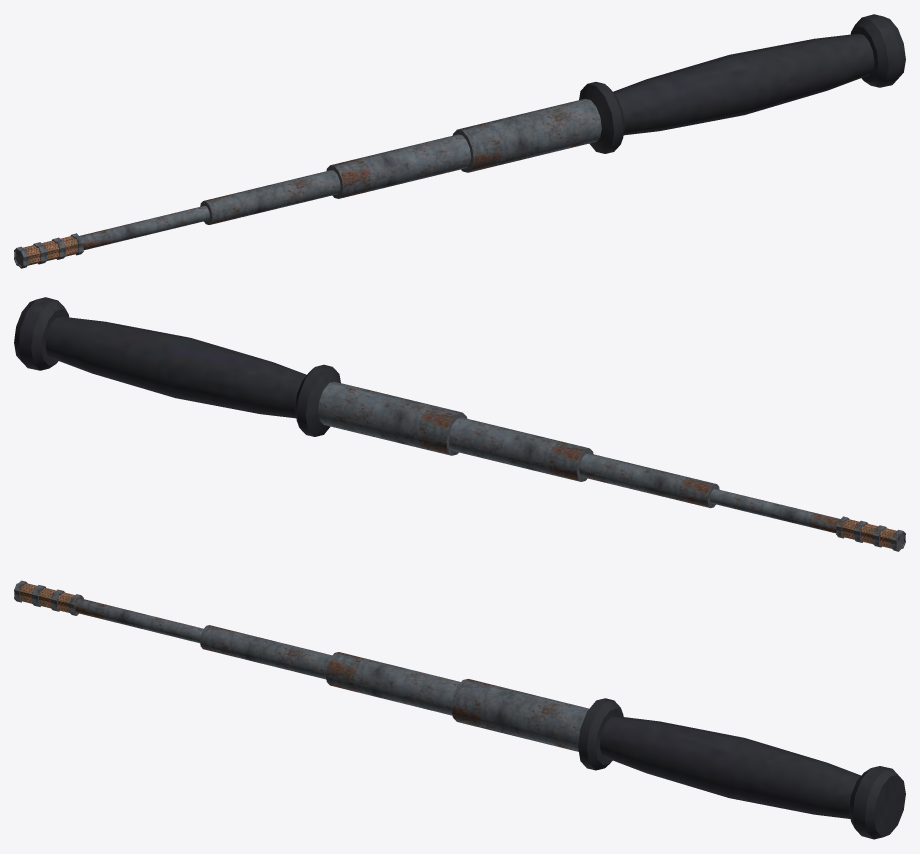
The model's file is stun_baton.glb.
The picture shows the model from 3 angles, top to bottom: view 1: azimuth 30°, elevation 25°; view 2: azimuth 150°, elevation 25°; view 3: azimuth 330°, elevation 25°; orthographic projection.
Parts seen in each view (by area): view 1: tool; view 2: tool; view 3: tool.
Part boxes in pixels (bbox=[...]): tool: bbox=[14, 14, 905, 268]; tool: bbox=[14, 297, 905, 551]; tool: bbox=[14, 580, 905, 839].
Bounding box in the file's own units: 0.4233 × 0.031 × 0.0308.
Materials: 1 (1 with a texture image).
